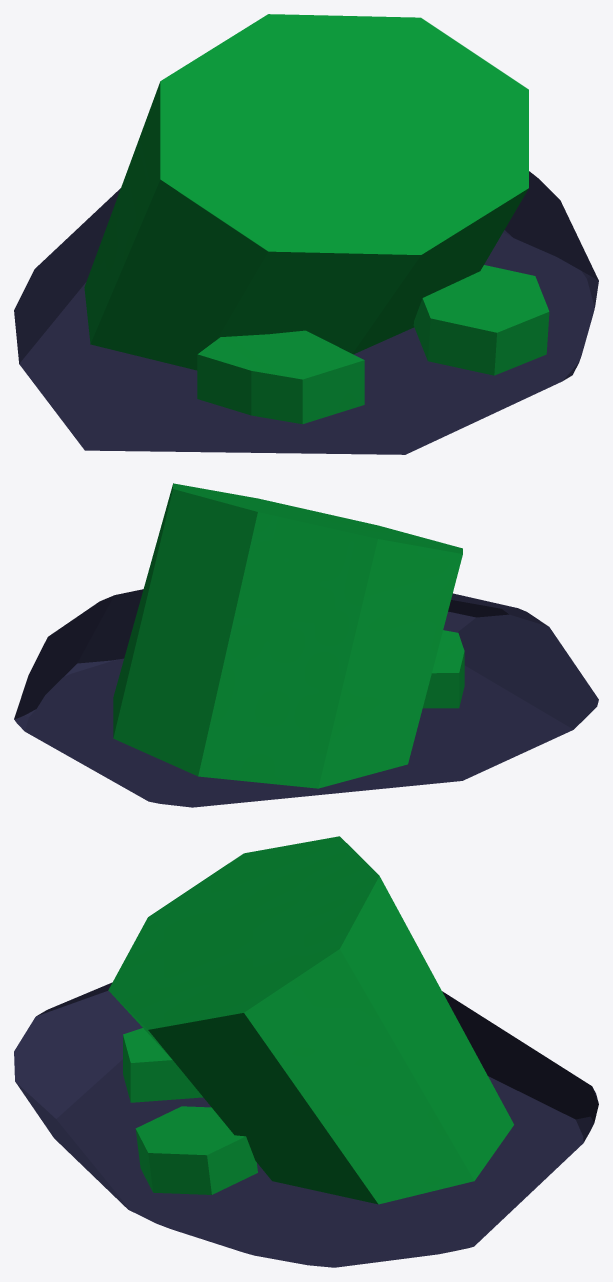
The picture shows the model from 3 angles, top to bottom: view 1: azimuth 30°, elevation 25°; view 2: azimuth 150°, elevation 25°; view 3: azimuth 270°, elevation 25°; orthographic projection. The views are drawn at different scales.
Parts seen in each view (by area): view 1: Nó 2; view 2: Nó 2; view 3: Nó 2.
Boxes of the visible parts, x1,y1,x2,y2 form: Nó 2: (14, 14, 598, 454); Nó 2: (14, 483, 598, 807); Nó 2: (14, 836, 598, 1267).
Size of the model in its own units: 244 by 120 by 237.
2 materials, 1 textured.
